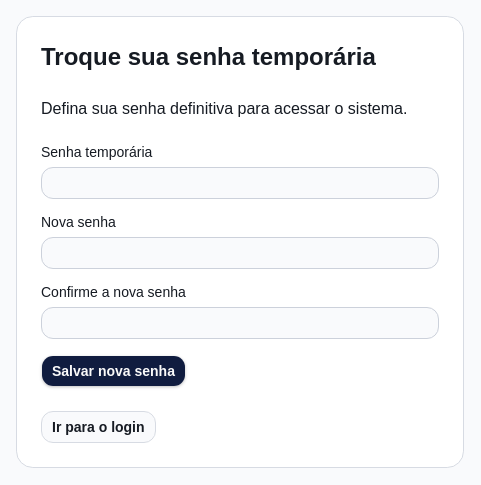
Scenario: troca sem consultar perfil, limpa sessão e cache após sucesso
Type "temporaria" into the password field labelled "Senha temporária" at (240, 183), box [41,167,439,199]
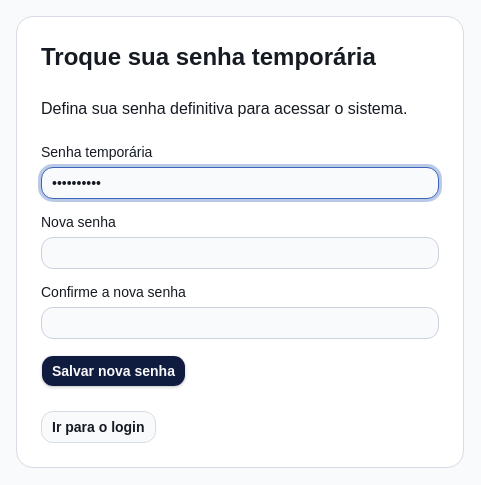
Type "definitiva123" into the password field labelled "Nova senha" at (240, 253), box [41,237,439,269]
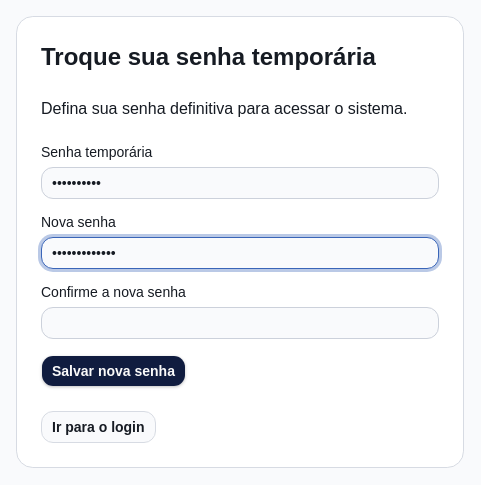
Type "definitiva123" into the password field labelled "Confirme a nova senha" at (240, 323), box [41,307,439,339]
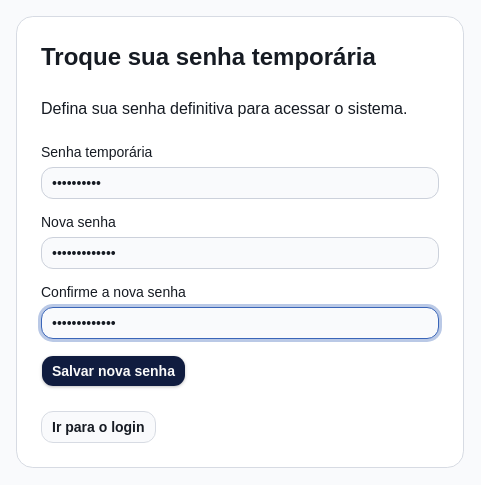
Click the button "Salvar nova senha" at (114, 371), box [41,355,186,387]
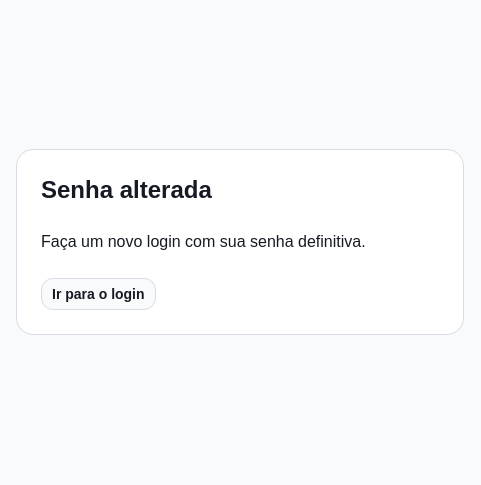
Result: the heading "Senha alterada" is shown at [41,176,212,203]
